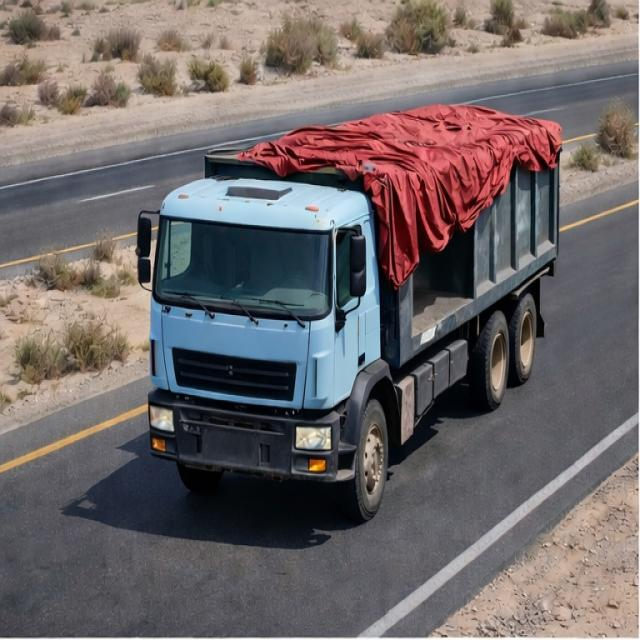trailer: (203, 97, 563, 181)
truck: (134, 90, 576, 514)
